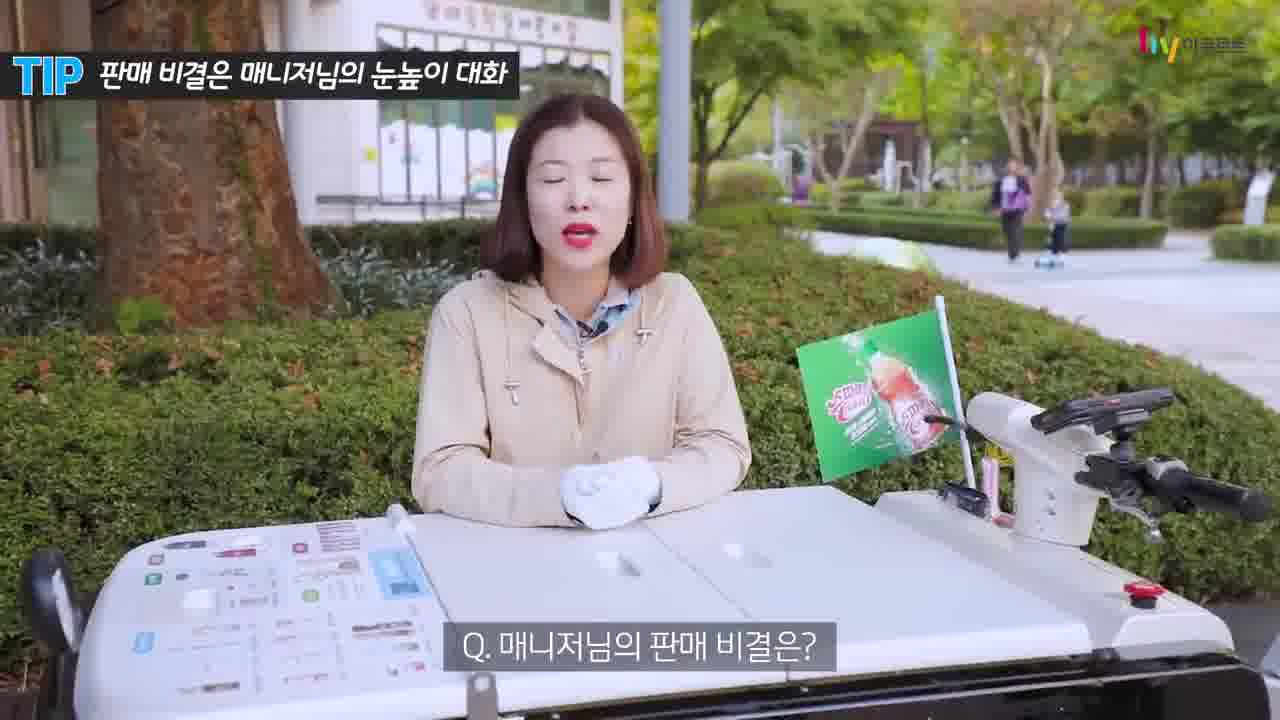Yakurut: (400, 104, 767, 555)
